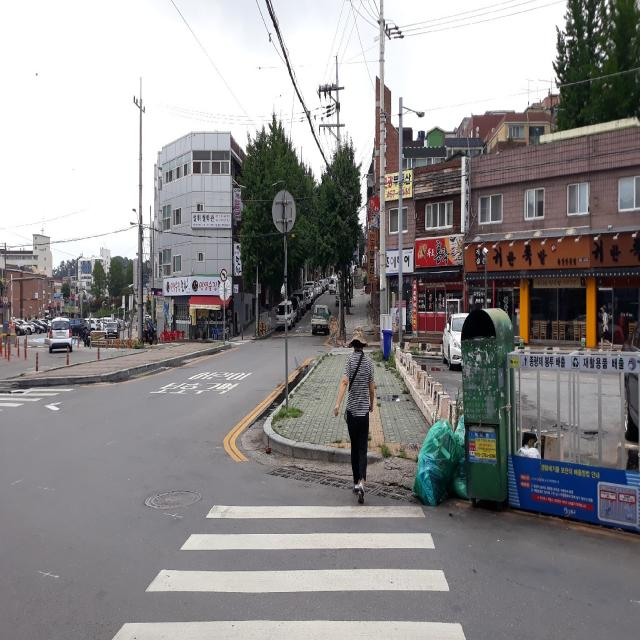횡단보도: (111, 503, 467, 638)
